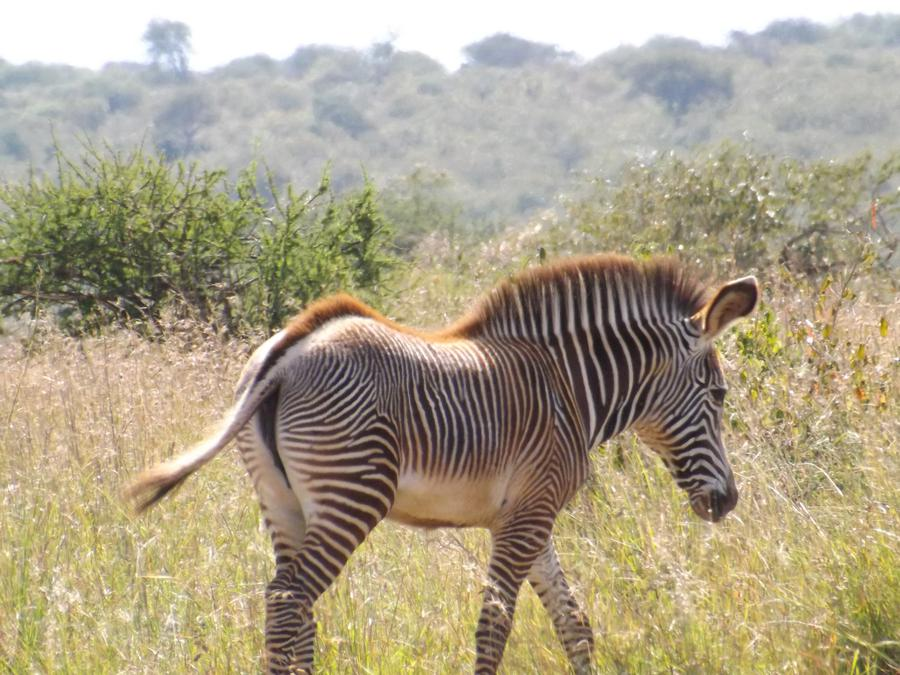zebra_grevys: (225, 289, 566, 526)
